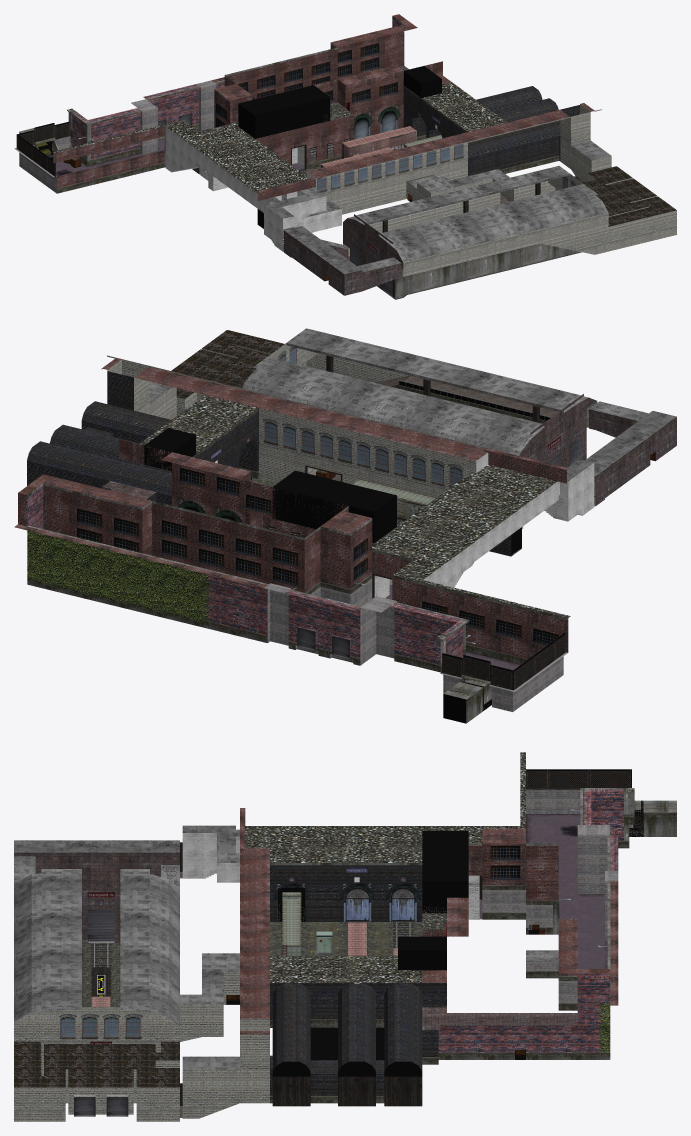
Rendered from de_train.glb.
3 views of the same model, one above another, from view 1: azimuth 30°, elevation 25°; view 2: azimuth 150°, elevation 25°; view 3: azimuth 270°, elevation 25° (orthographic). The views are drawn at different scales.
Visible parts, largest first — view 1: Object_28, Object_34, Object_35, Object_19, Object_3, Object_15, Object_9, Object_57, Object_101, Object_8, Object_52, Object_44 (+6 smaller); view 2: Object_34, Object_28, Object_9, Object_19, Object_3, Object_44, Object_52, Object_86, Object_101, Object_15, Object_8, Object_10 (+13 smaller); view 3: Object_28, Object_3, Object_35, Object_19, Object_34, Object_44, Object_39, Object_8, Object_10, Object_101, Object_15, Object_13 (+16 smaller).
Boxes of the visible parts, left/top/right/bottom form: Object_28: left=181, top=138, right=610, bottom=274; Object_34: left=53, top=14, right=594, bottom=200; Object_35: left=314, top=104, right=676, bottom=276; Object_19: left=54, top=82, right=506, bottom=193; Object_3: left=403, top=86, right=579, bottom=175; Object_15: left=19, top=16, right=581, bottom=299; Object_9: left=214, top=38, right=403, bottom=127; Object_57: left=165, top=127, right=341, bottom=251; Object_101: left=38, top=66, right=441, bottom=159; Object_8: left=284, top=65, right=408, bottom=299; Object_52: left=315, top=143, right=583, bottom=200; Object_44: left=72, top=18, right=401, bottom=159; Object_34: left=14, top=358, right=568, bottom=673; Object_28: left=148, top=328, right=676, bottom=579; Object_9: left=68, top=464, right=568, bottom=652; Object_19: left=139, top=395, right=570, bottom=638; Object_3: left=27, top=371, right=511, bottom=556; Object_44: left=27, top=486, right=463, bottom=664; Object_52: left=260, top=343, right=464, bottom=497; Object_86: left=27, top=530, right=200, bottom=619; Object_101: left=144, top=428, right=491, bottom=711; Object_15: left=27, top=385, right=568, bottom=723; Object_8: left=102, top=394, right=676, bottom=505; Object_10: left=264, top=578, right=567, bottom=711; Object_28: left=14, top=825, right=558, bottom=1069; Object_3: left=270, top=865, right=446, bottom=1095; Object_35: left=14, top=971, right=269, bottom=1121; Object_19: left=82, top=752, right=634, bottom=1006; Object_34: left=240, top=808, right=634, bottom=1034; Object_44: left=438, top=789, right=623, bottom=1052; Object_39: left=14, top=1041, right=179, bottom=1087; Object_8: left=14, top=852, right=577, bottom=1030; Object_10: left=482, top=789, right=618, bottom=1003; Object_101: left=278, top=800, right=643, bottom=970; Object_15: left=82, top=788, right=676, bottom=1103; Object_13: left=91, top=842, right=482, bottom=1106.
Size of the model in its own units: 300 by 52.42 by 281.
Materials: 100 (99 with a texture image).
